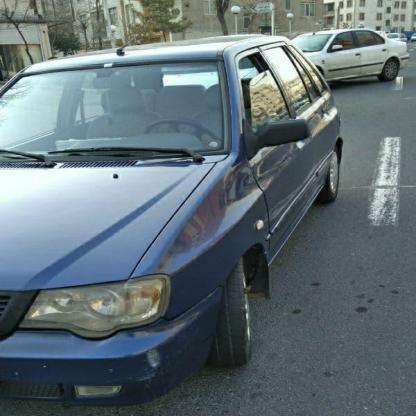Car: (0, 27, 345, 401), (263, 16, 416, 100)
